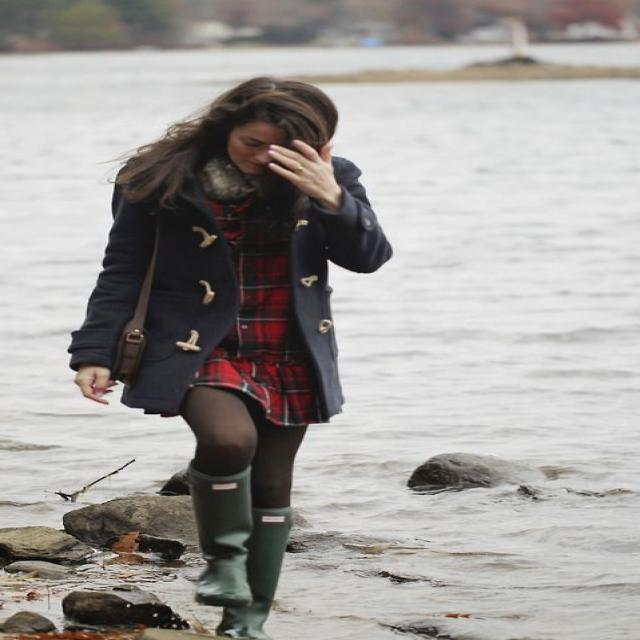coat: (67, 149, 396, 418)
dress: (192, 177, 326, 428)
